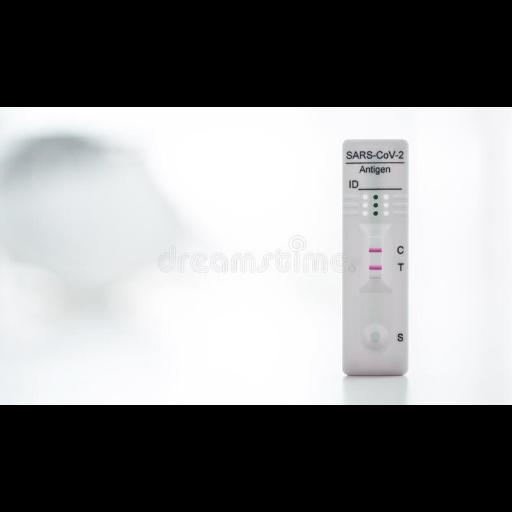Pos: (343, 138, 407, 374)
